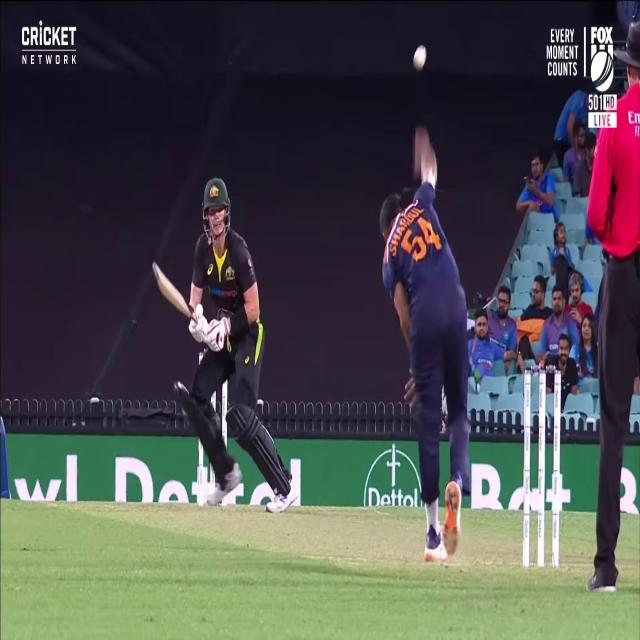ball: (413, 45, 427, 70)
stump: (522, 364, 561, 568)
